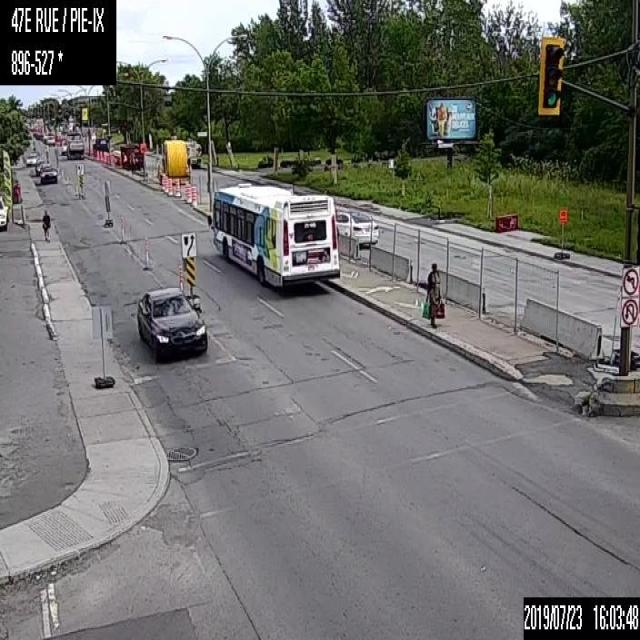bus: (206, 180, 340, 285)
construction: (177, 264, 183, 291), (119, 217, 123, 243), (144, 236, 147, 269), (191, 187, 196, 205), (186, 183, 191, 201), (167, 177, 172, 194), (163, 176, 168, 192), (175, 179, 179, 196)
pedestrian: (421, 261, 444, 327), (41, 210, 51, 242)
vehicle: (136, 286, 207, 362), (333, 212, 379, 246), (65, 135, 83, 159), (185, 138, 200, 166), (40, 162, 56, 182), (0, 194, 9, 229), (35, 158, 48, 174), (26, 151, 39, 165), (45, 134, 55, 145), (60, 139, 66, 155)
